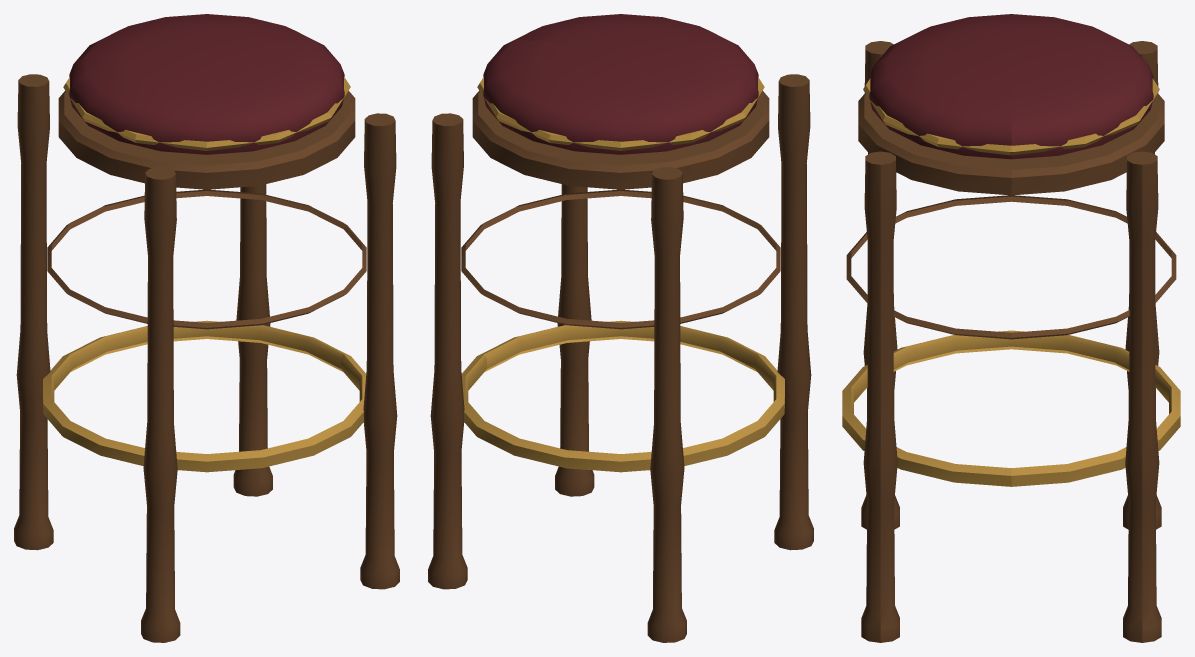
Rendered from BarStool.obj.
3 renders of one model, left to right at view 1: azimuth 30°, elevation 25°; view 2: azimuth 150°, elevation 25°; view 3: azimuth 270°, elevation 25°, orthographic. The views are drawn at different scales.
Visible parts, largest first — view 1: bar-stool-backless_0, bar-stool-backless_2, bar-stool-backless_1; view 2: bar-stool-backless_0, bar-stool-backless_2, bar-stool-backless_1; view 3: bar-stool-backless_0, bar-stool-backless_2, bar-stool-backless_1.
Boxes of the visible parts, bbox=[...] form: bar-stool-backless_0: bbox=[14, 74, 399, 642]; bar-stool-backless_2: bbox=[69, 14, 344, 154]; bar-stool-backless_1: bbox=[43, 77, 366, 472]; bar-stool-backless_0: bbox=[428, 74, 813, 642]; bar-stool-backless_2: bbox=[483, 14, 758, 154]; bar-stool-backless_1: bbox=[461, 77, 784, 472]; bar-stool-backless_0: bbox=[846, 41, 1176, 642]; bar-stool-backless_2: bbox=[869, 14, 1153, 159]; bar-stool-backless_1: bbox=[842, 78, 1180, 486].
Bounding box in the file's own units: 0.464 × 0.7775 × 0.457.
